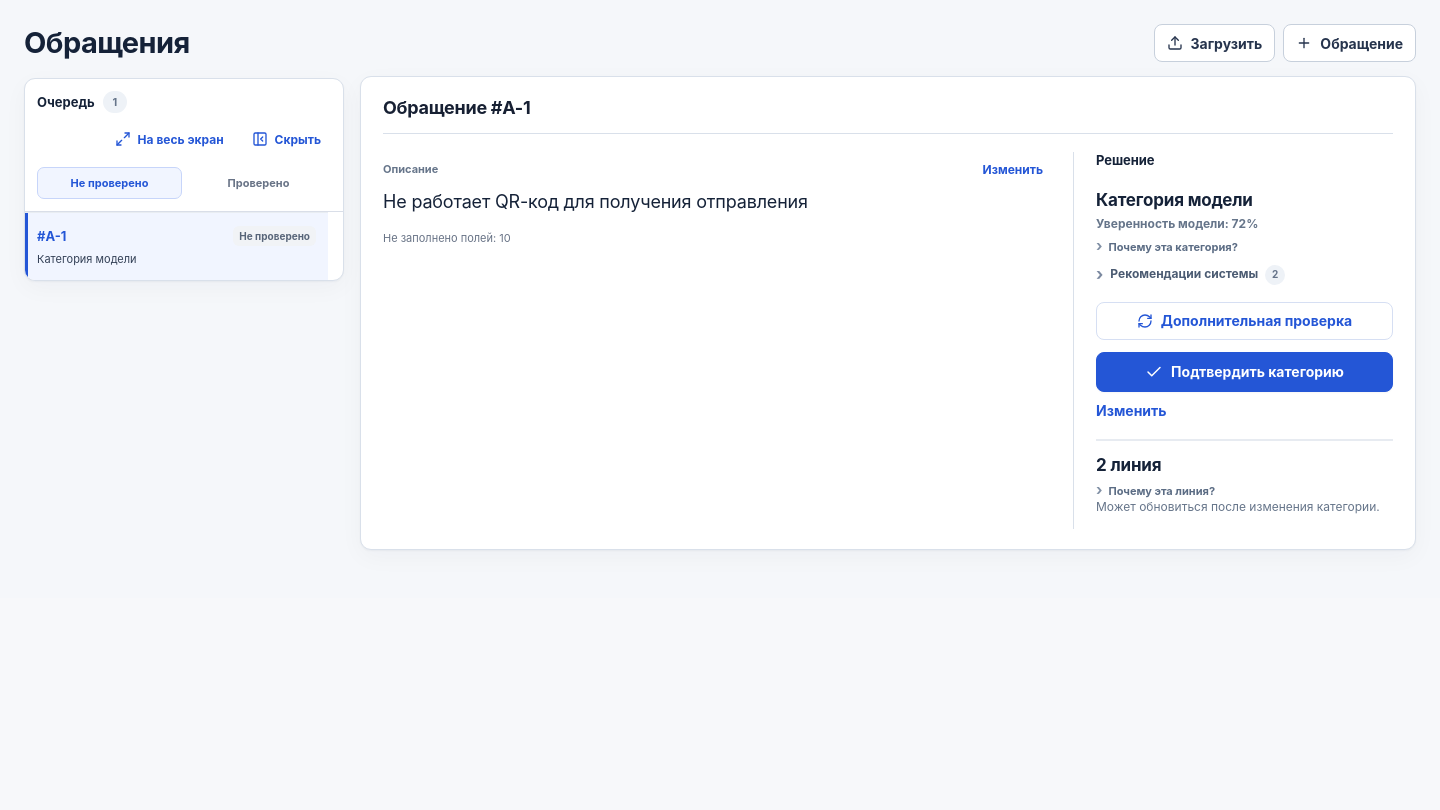
Test: keeps the main workflow usable when the additional check fails
expect the heading "Категория модели" is shown: met, box [1096,190,1253,210]
Click the button "Дополнительная проверка".
click(1244, 321)  # box [1096,302,1393,340]
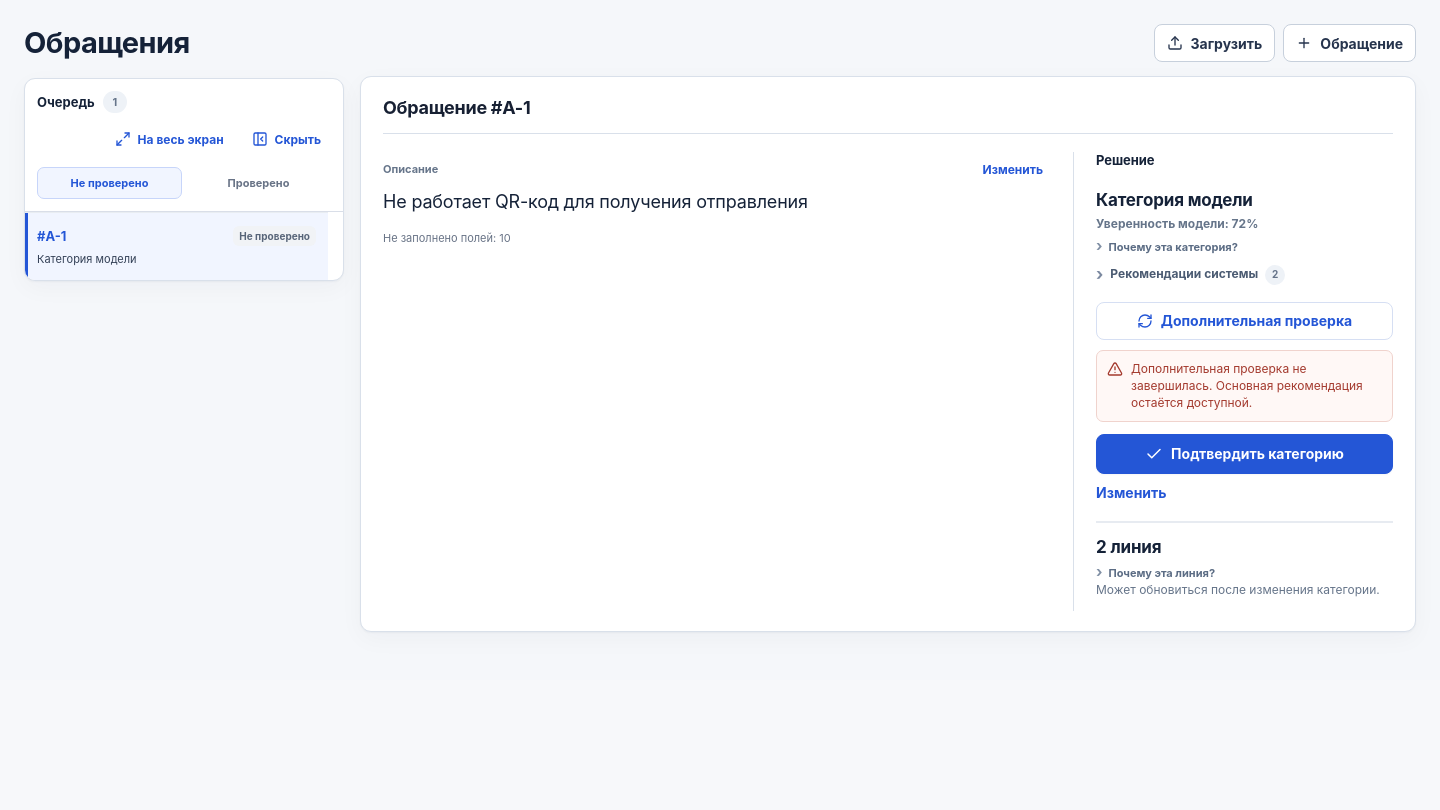
expect the heading "Категория модели" is shown: met, box [1096,190,1253,210]
expect the text "Дополнительная проверка не завершилась. Основная рекомендация остаётся доступной." is shown: met, box [1131,361,1363,410]
